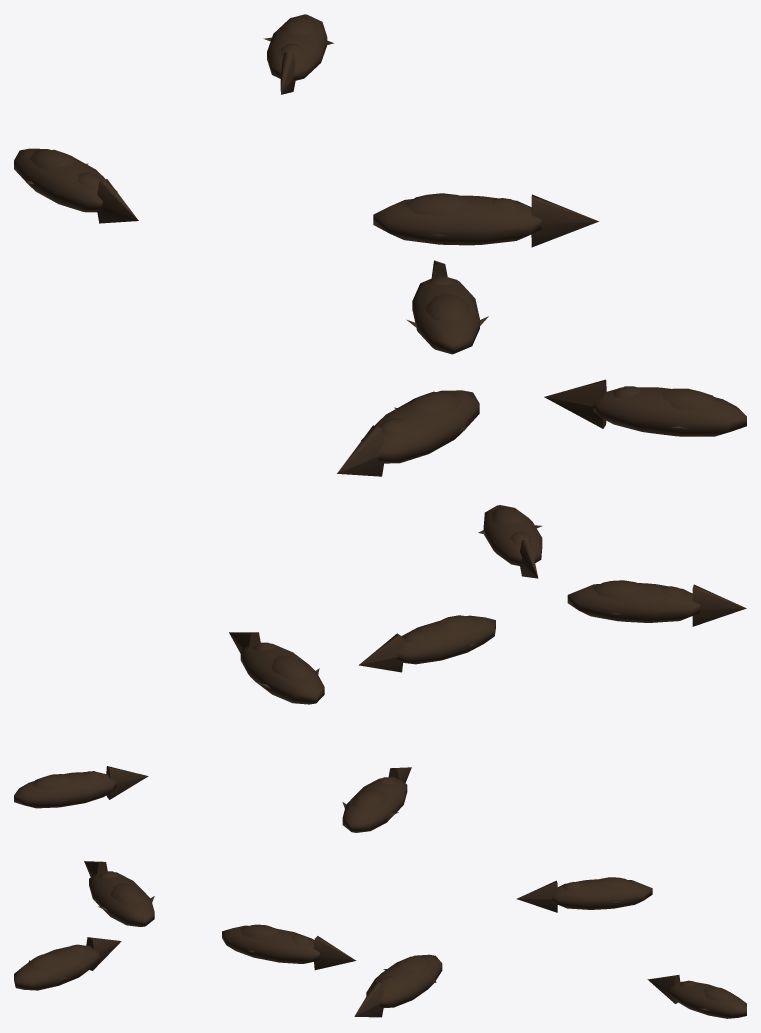
Rendered from painted-koi.glb.
3 views of the same model, one above another, from view 1: azimuth 30°, elevation 25°; view 2: azimuth 150°, elevation 25°; view 3: azimuth 270°, elevation 25° (orthographic). The views are drawn at different scales.
Parts seen in each view (by area): view 1: painted-koi-outline; view 2: painted-koi-outline; view 3: painted-koi-outline.
Boxes of the visible parts, x1,y1,x2,y2 form: painted-koi-outline: (14, 14, 746, 476); painted-koi-outline: (14, 505, 746, 832); painted-koi-outline: (14, 861, 746, 1018).
Bounding box in the file's own units: 3.39 × 0.345 × 6.75.
